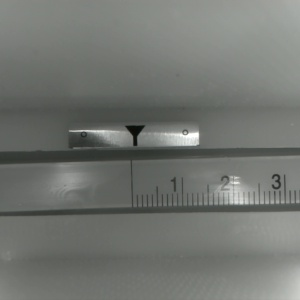1: (169, 177, 176, 192)
2: (220, 176, 229, 190)
3: (270, 174, 280, 189)
finger: (124, 126, 145, 146)
